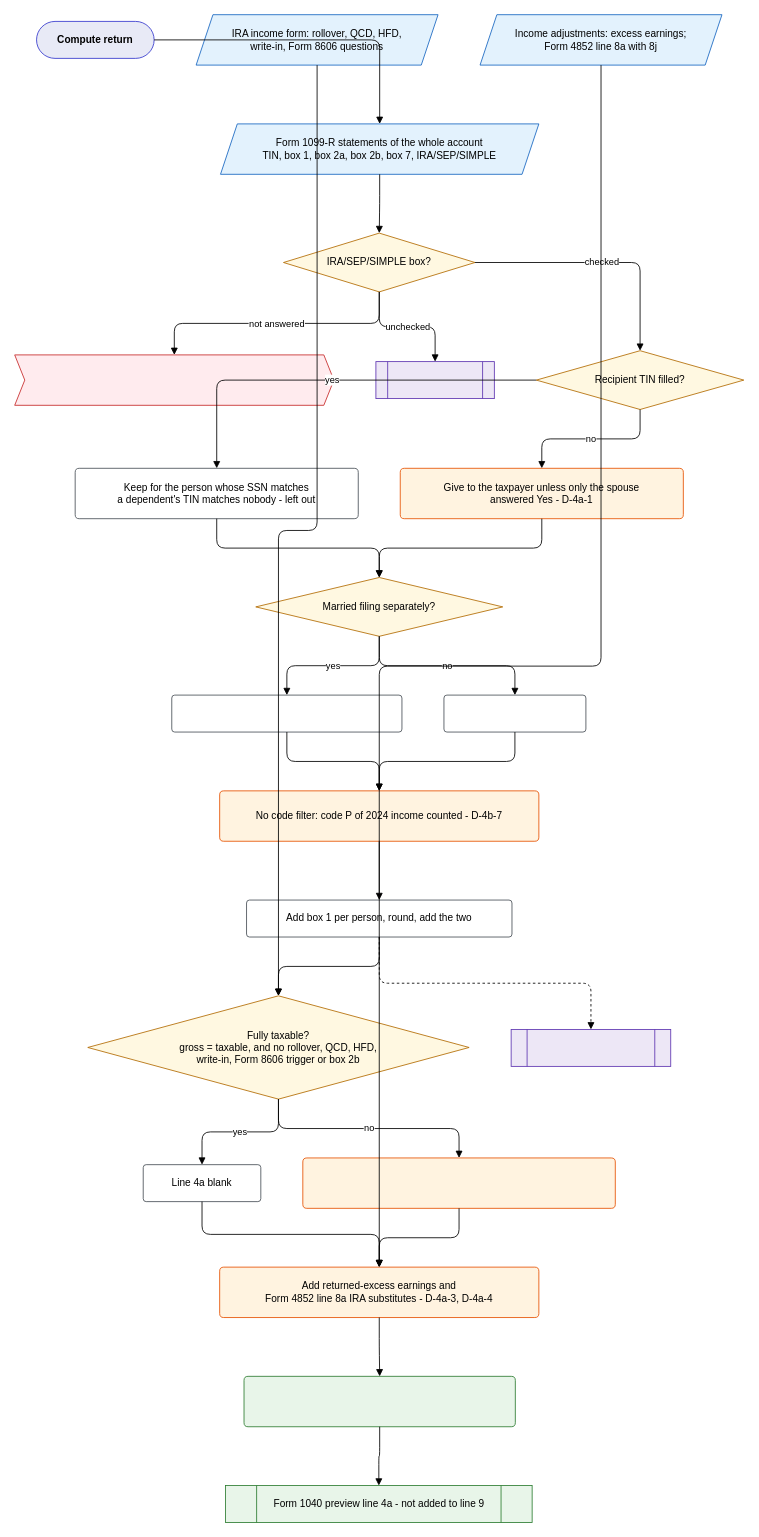
This 759x1537 diagram has some shape labels left out. The box of each missing label's shape, as (x1, y1, x2, y2) in pixels:
form1040.income.iraDistributions out_form_1040.income_ira_distributions_4a: (243, 1376, 515, 1427)
Line 4a = gross filled even when only box 2b is checked - D-4a-2: (302, 1157, 615, 1208)
Line 4b taxable amount: (510, 1029, 671, 1066)
Lines 5a and 5b: (375, 361, 494, 399)
PENSION_1099R_IRA_SEP_SIMPLE_FLAG_NOT_DETERMINED blocks: (14, 354, 334, 405)
Spouse SSN and spouse form ignored: (171, 694, 402, 732)
Taxpayer and spouse: (443, 694, 586, 732)
